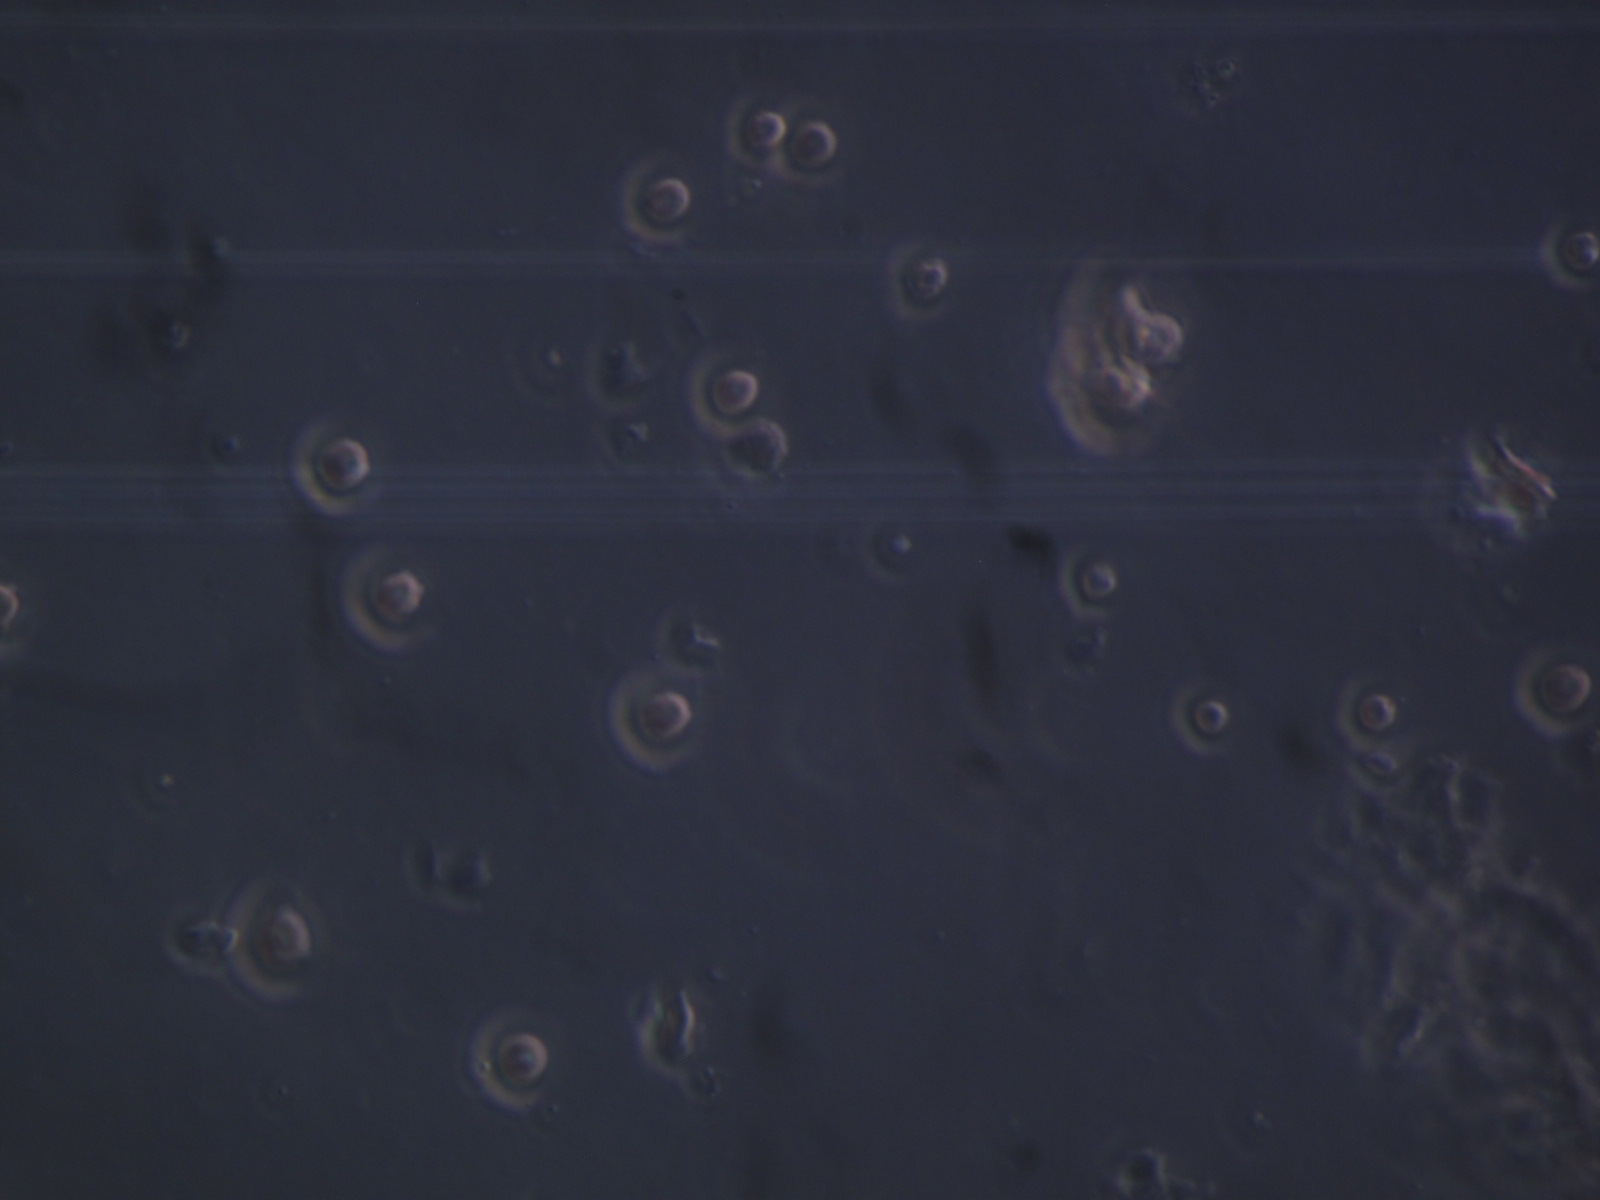hemo: (1060, 256, 1193, 386), (1049, 329, 1162, 453), (222, 874, 312, 998), (343, 539, 428, 653), (289, 411, 386, 511), (605, 666, 694, 771), (469, 1003, 548, 1111), (1516, 644, 1600, 742), (621, 158, 692, 246), (690, 345, 762, 431), (780, 102, 849, 187), (714, 410, 791, 482), (1167, 676, 1230, 760), (1534, 212, 1600, 292), (1060, 539, 1121, 620), (724, 95, 791, 169), (889, 241, 955, 316), (169, 903, 238, 973), (1335, 674, 1398, 751), (1109, 1141, 1178, 1197), (648, 991, 693, 1076), (1, 579, 23, 634)
